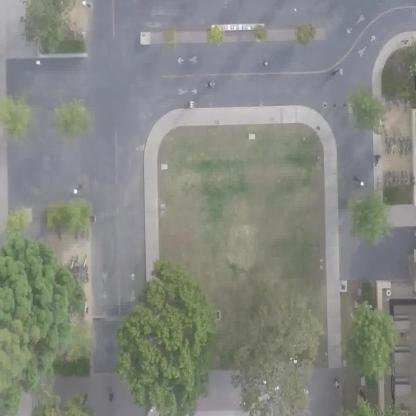Bicyclist: (330, 62, 350, 82), (106, 384, 118, 408), (369, 150, 381, 169), (204, 79, 218, 93), (186, 98, 200, 112), (258, 59, 273, 72)
Pedestrian: (328, 375, 350, 394)
